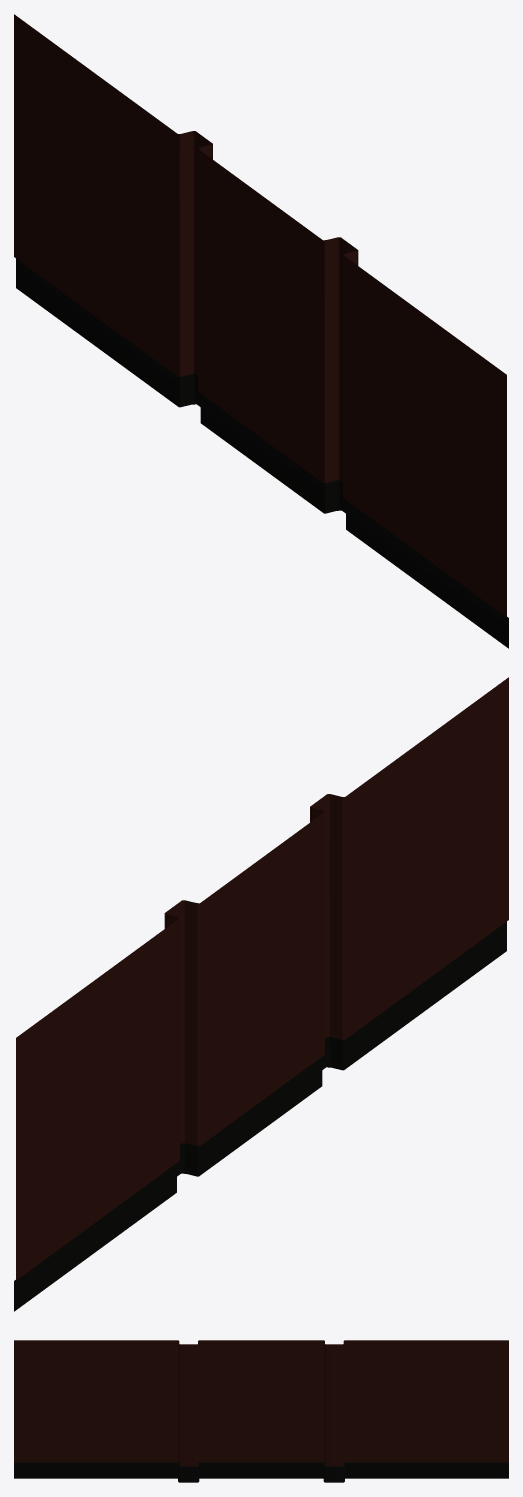
Rendered from Longwall.fbx.
The picture shows the model from 3 angles, top to bottom: view 1: azimuth 30°, elevation 25°; view 2: azimuth 150°, elevation 25°; view 3: azimuth 270°, elevation 25°; orthographic projection. The views are drawn at different scales.
Visible parts, largest first — view 1: Longwall; view 2: Longwall; view 3: Longwall.
Boxes of the visible parts, x1,y1,x2,y2 form: Longwall: (14,14,508,648); Longwall: (14,677,508,1311); Longwall: (14,1340,508,1482).
Size of the model in its own units: 23.02 by 330 by 1075.
